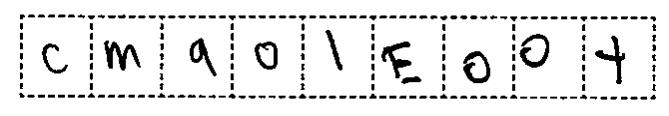0: (519, 28, 554, 72), (248, 36, 286, 76), (459, 46, 495, 88)
1: (318, 26, 356, 77)
4: (592, 31, 634, 90)
9: (182, 34, 223, 84)
C: (38, 39, 73, 80)
E: (379, 35, 426, 86)
M: (98, 37, 148, 74)
